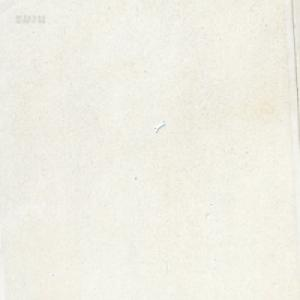Wrench: (154, 120, 165, 133)
